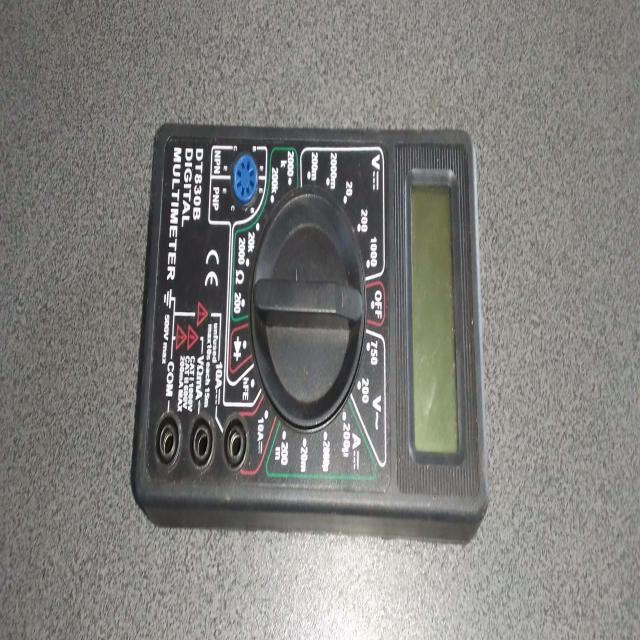Digital Multimeter: (128, 102, 497, 567)
